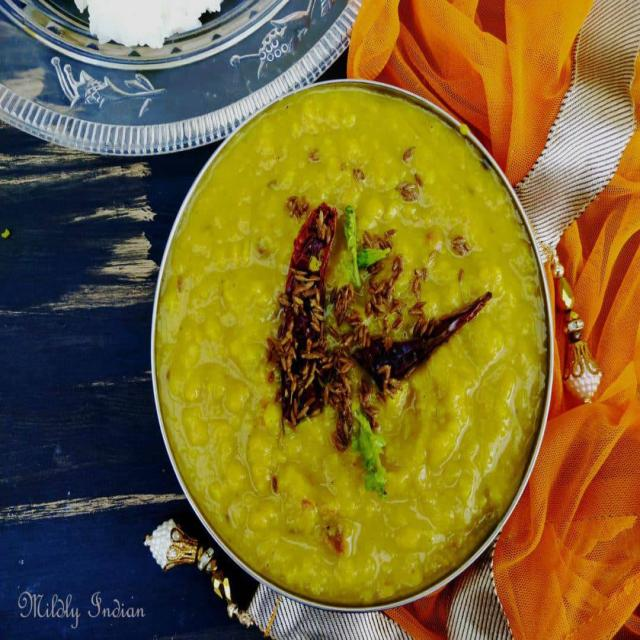dal: (157, 144, 552, 587)
rice: (220, 160, 531, 553)
